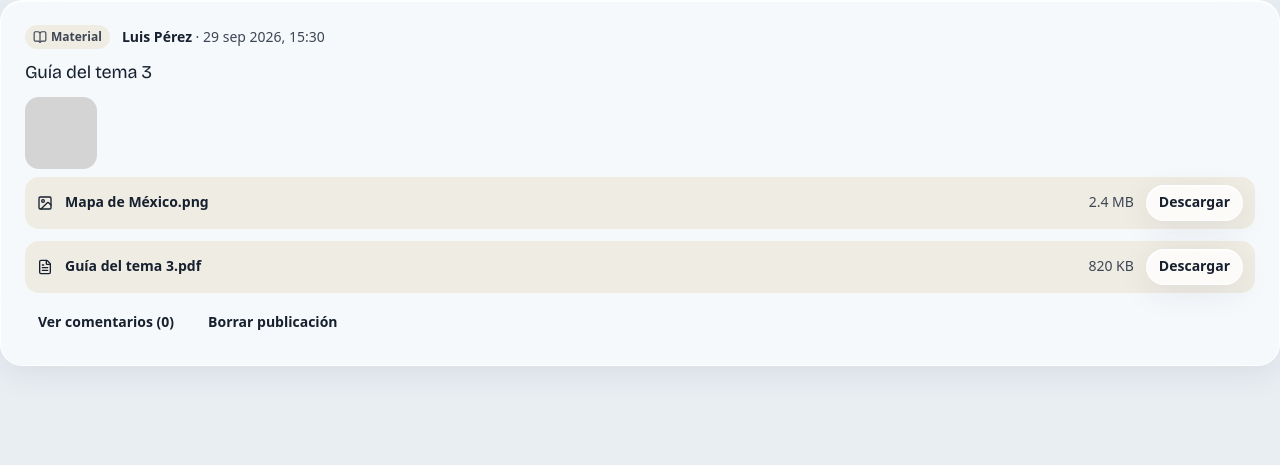
it: PublicacionDelMuro con adjuntos › muestra los adjuntos y, al pedir borrar, la frase que también los nombra
The width and height of the screenshot is (1280, 465).
Expected: the list named "Archivos adjuntos" is shown, [25, 97, 1255, 293]
Expected: the button named "Descargar Guía del tema 3.pdf" is shown, [1146, 249, 1243, 285]
Click the button "Borrar publicación": (273,323) [195, 305, 350, 341]
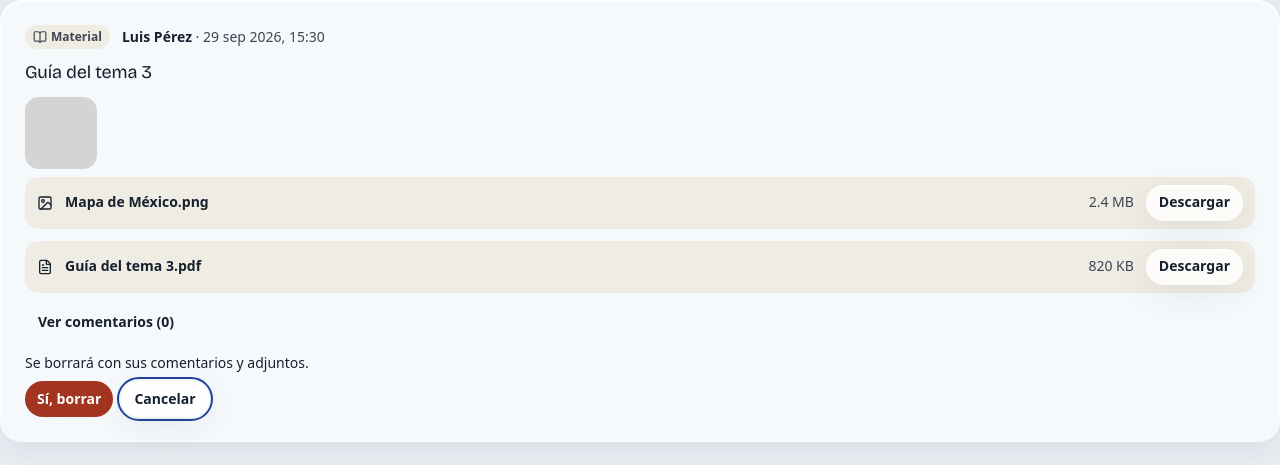
Now the text "Se borrará con sus comentarios y adjuntos." is shown, box [25, 353, 309, 372]
